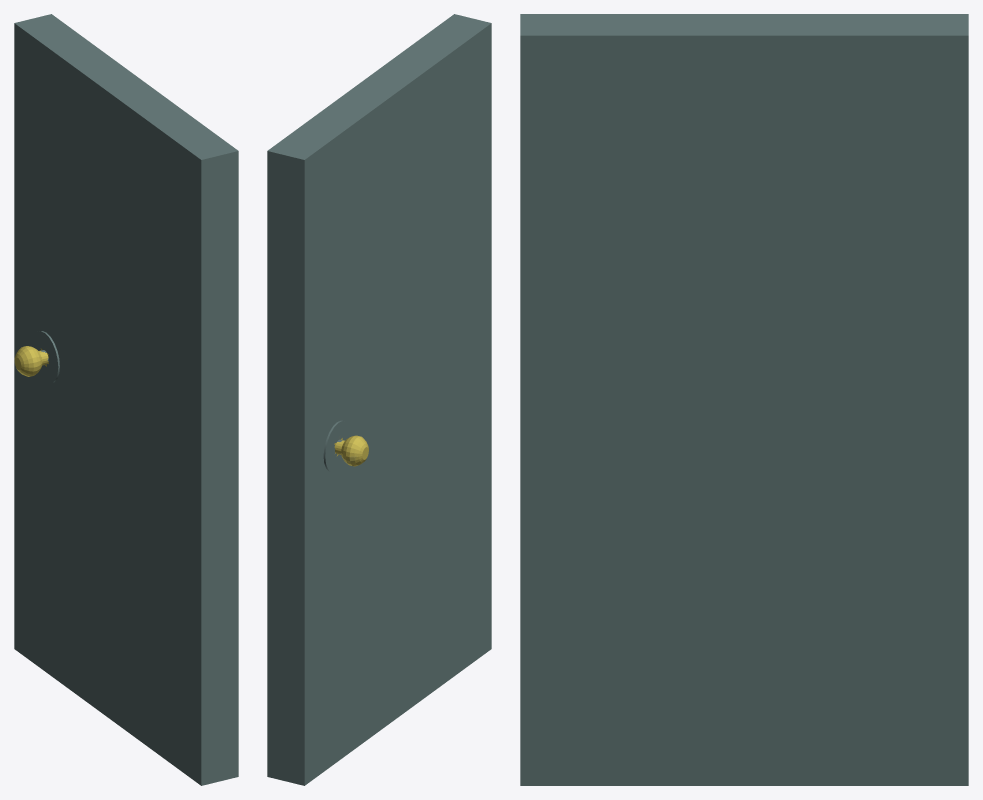
The model's file is Wall_door.glb.
3 views of the same model, side by side, from view 1: azimuth 30°, elevation 25°; view 2: azimuth 150°, elevation 25°; view 3: azimuth 270°, elevation 25° (orthographic). The views are drawn at different scales.
Parts seen in each view (by area): view 1: door; view 2: door; view 3: door.
Boxes of the visible parts, left/top/right/bottom form: door: left=14, top=14, right=238, bottom=785; door: left=267, top=14, right=491, bottom=785; door: left=520, top=14, right=968, bottom=785.
Bounding box in the file's own units: 0.3757 × 3.41 × 1.85.
1 material, 1 textured.
